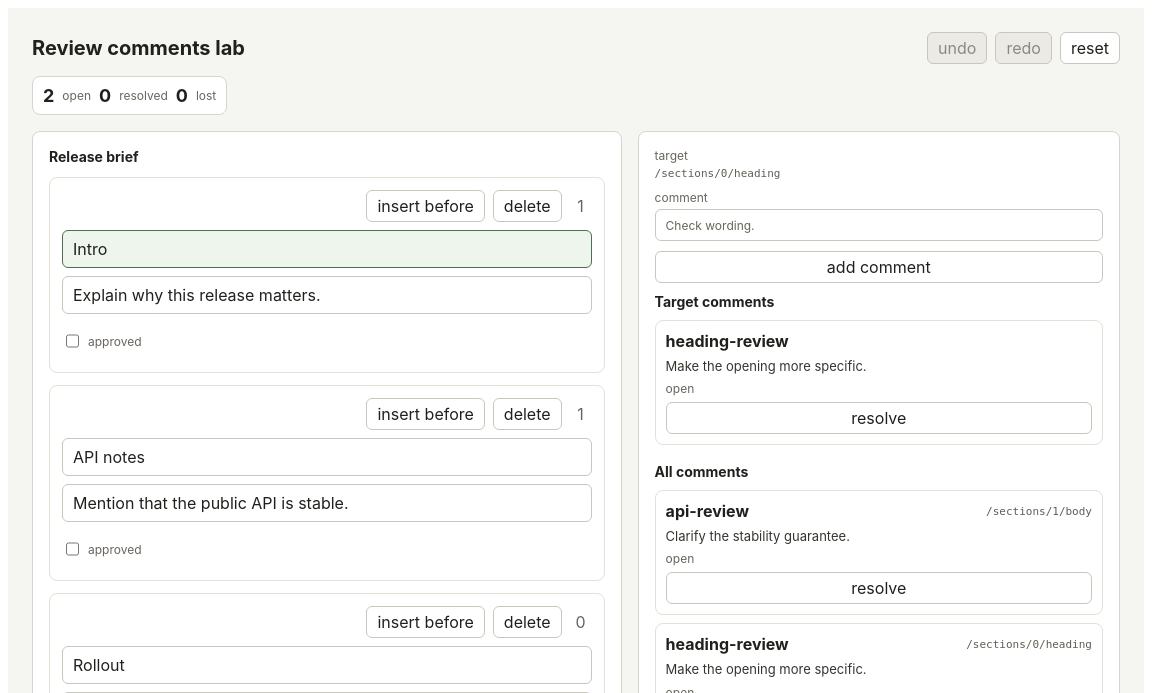
Test: review comments lab dogfood › marks deleted anchors as lost
The width and height of the screenshot is (1152, 693).
Click the button with aria-label "delete /sections/1" at coordinates (527, 414), box [493,398,562,430]
(page scrolled)
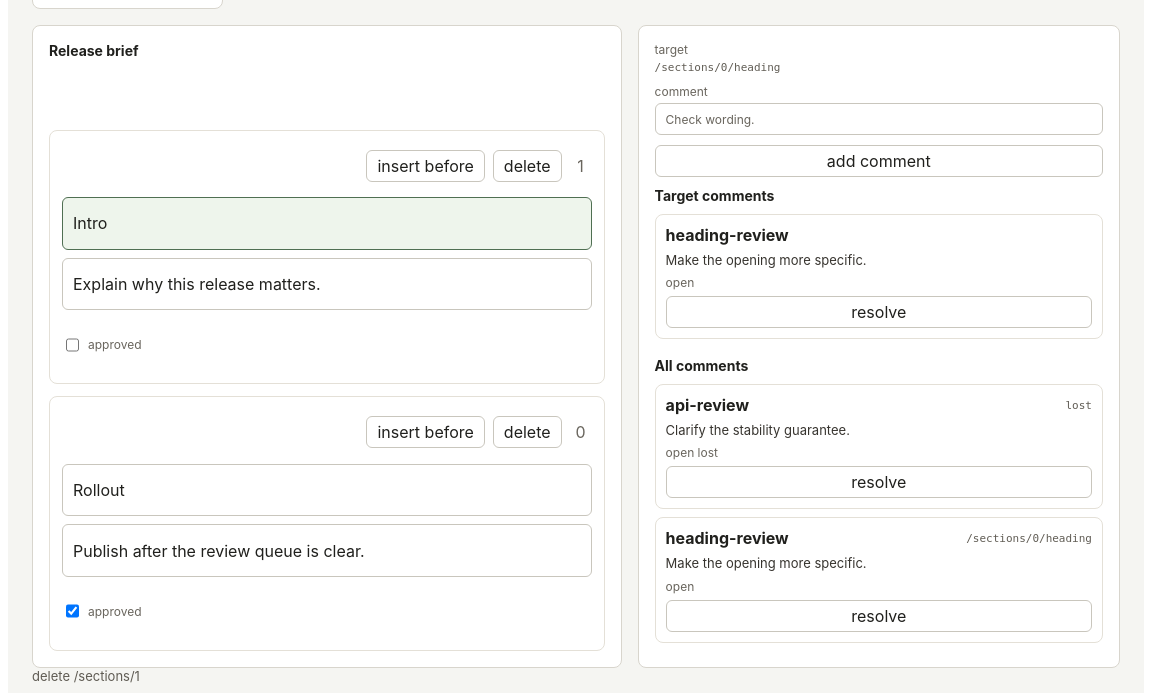
Expected: the text "api-review" is shown, [666,395,749,415]
Expected: the text "lost" is shown, [1066,399,1092,412]
Expected: the message reads "delete /sections/1", [32,668,140,684]
